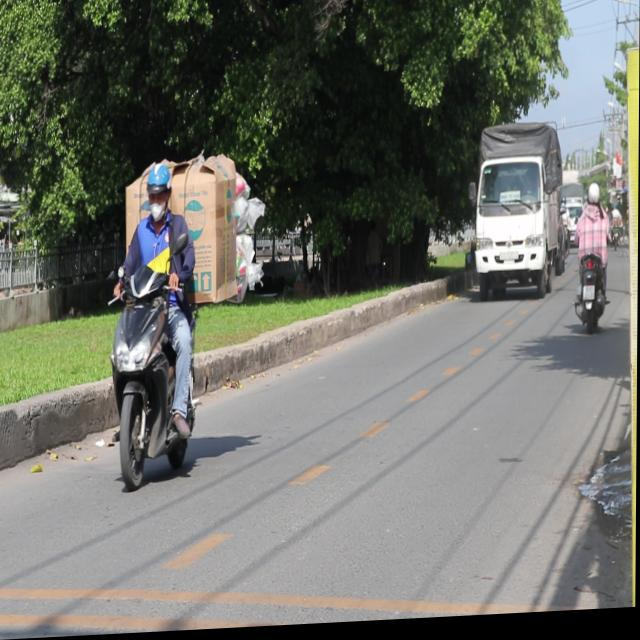helmet: (146, 161, 173, 223)
licenseplate: (104, 157, 202, 495)
